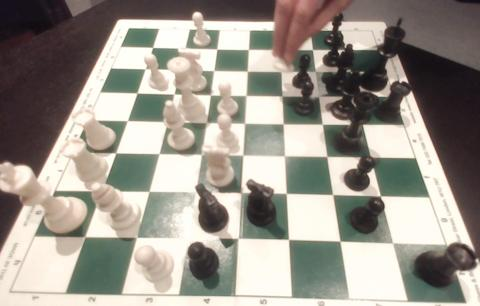xcorner: (308, 43, 320, 56), (210, 42, 223, 54), (346, 66, 359, 78), (311, 65, 324, 77), (173, 63, 185, 76), (352, 91, 365, 103), (278, 89, 290, 102), (203, 88, 215, 101), (166, 88, 179, 100), (130, 87, 142, 100), (120, 115, 132, 128), (108, 148, 121, 160), (141, 187, 154, 199), (284, 236, 296, 249), (341, 44, 353, 56), (276, 43, 288, 55), (243, 43, 255, 55), (178, 42, 190, 54), (146, 42, 158, 54), (277, 65, 289, 77), (242, 64, 254, 76), (207, 64, 219, 76), (138, 63, 150, 75), (315, 90, 327, 102), (240, 89, 252, 101), (359, 119, 371, 131), (319, 119, 331, 131), (279, 118, 291, 130), (239, 117, 251, 129), (199, 117, 211, 129), (159, 116, 171, 128), (367, 153, 379, 165), (324, 152, 336, 164), (280, 151, 292, 163), (237, 150, 249, 162), (194, 150, 206, 162), (151, 149, 163, 161), (377, 192, 389, 204), (329, 191, 341, 203), (282, 190, 294, 202), (235, 189, 247, 201), (188, 188, 200, 200), (95, 186, 107, 198), (388, 239, 400, 251), (336, 238, 348, 250), (232, 235, 244, 247), (181, 234, 193, 246), (130, 233, 142, 245), (79, 232, 91, 244)
